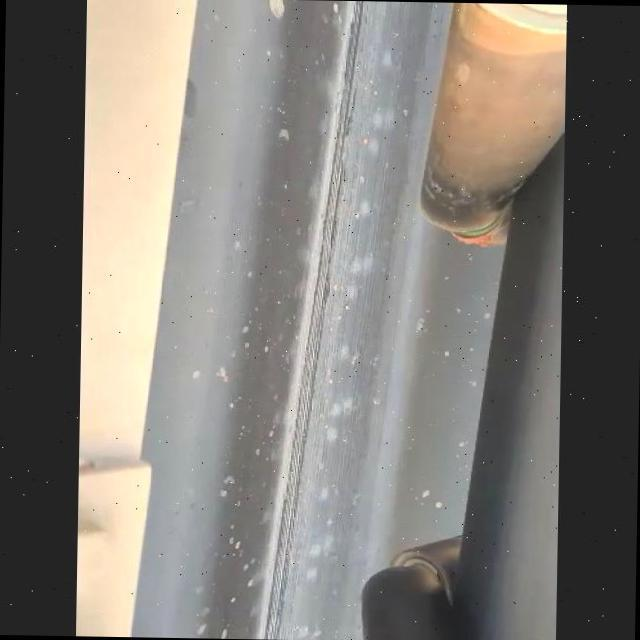Wear: (257, 0, 368, 639)
